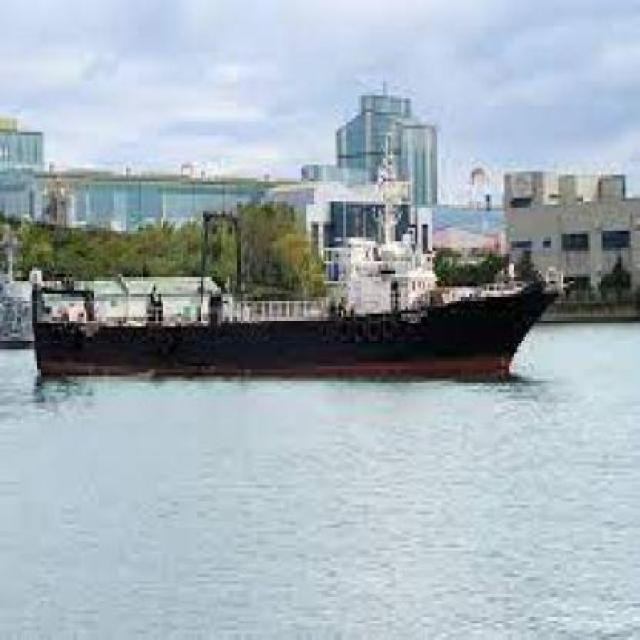fish-b: (24, 133, 590, 400)
